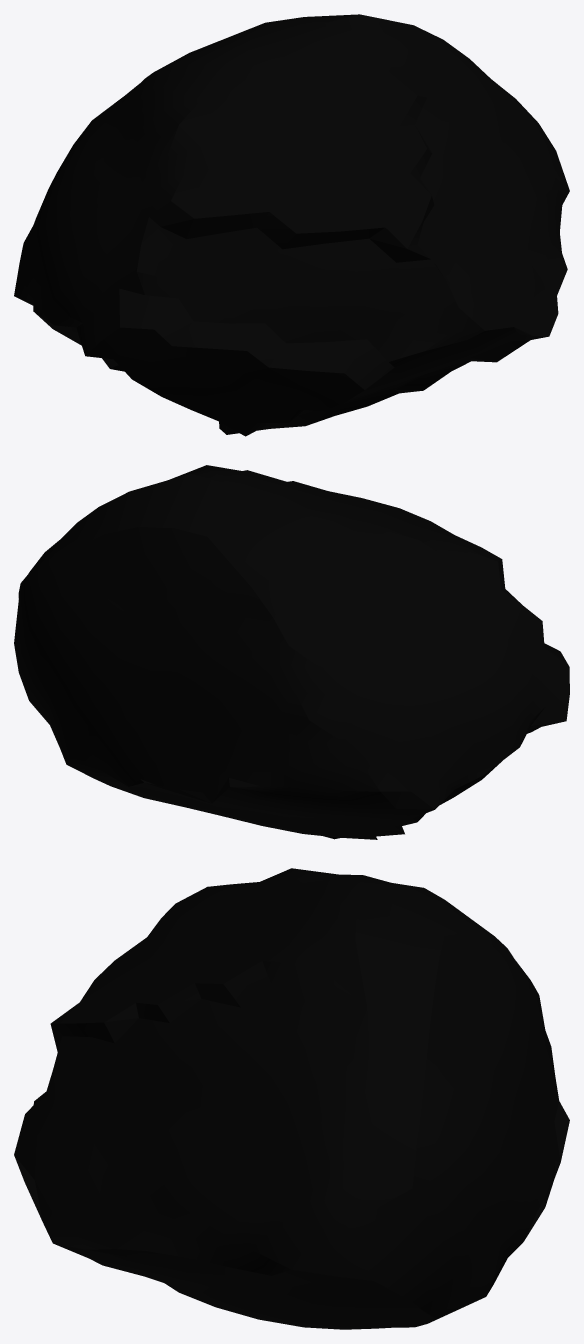
File: rock_boulder_01.glb
3 renders of one model, top to bottom at view 1: azimuth 30°, elevation 25°; view 2: azimuth 150°, elevation 25°; view 3: azimuth 270°, elevation 25°, orthographic. The views are drawn at different scales.
Visible parts, largest first — view 1: rock_boulder_01; view 2: rock_boulder_01; view 3: rock_boulder_01.
Part boxes in pixels (bbox=[...]): rock_boulder_01: bbox=[14, 14, 569, 436]; rock_boulder_01: bbox=[14, 465, 569, 839]; rock_boulder_01: bbox=[14, 868, 569, 1329].
Bounding box in the file's own units: 1.54 × 1 × 1.26.
Materials: 1 (1 with a texture image).
